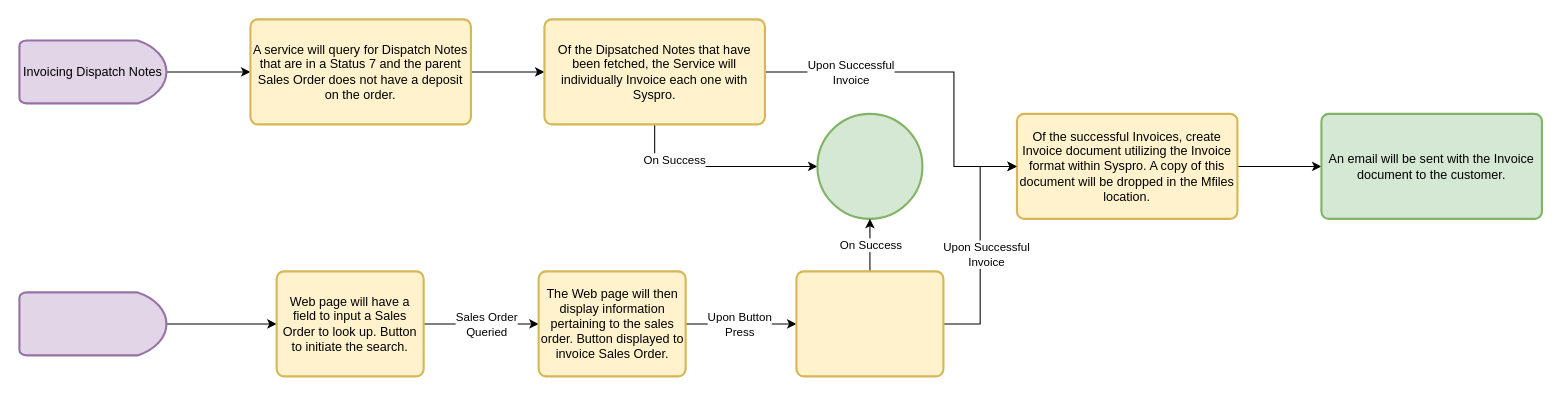
Some shapes in this 1560 by 395 pixel diagram are drawn without their labels. Here are the shapes that lost their labels. From the top down, the box of each, then its label:
(816, 112, 923, 219): Invoice Available in Syspro
(18, 291, 167, 356): Invoicing Sales Order
(795, 270, 944, 377): Upon button press, web page will communicate to Syspro to invoice Sales Order
